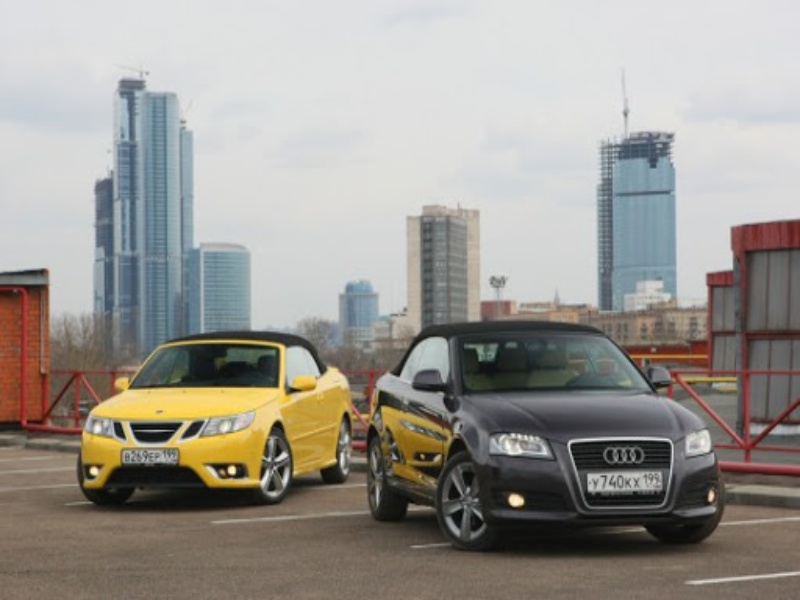car: (367, 321, 728, 547), (76, 330, 355, 503)
plate: (587, 472, 661, 491), (123, 449, 179, 462)
